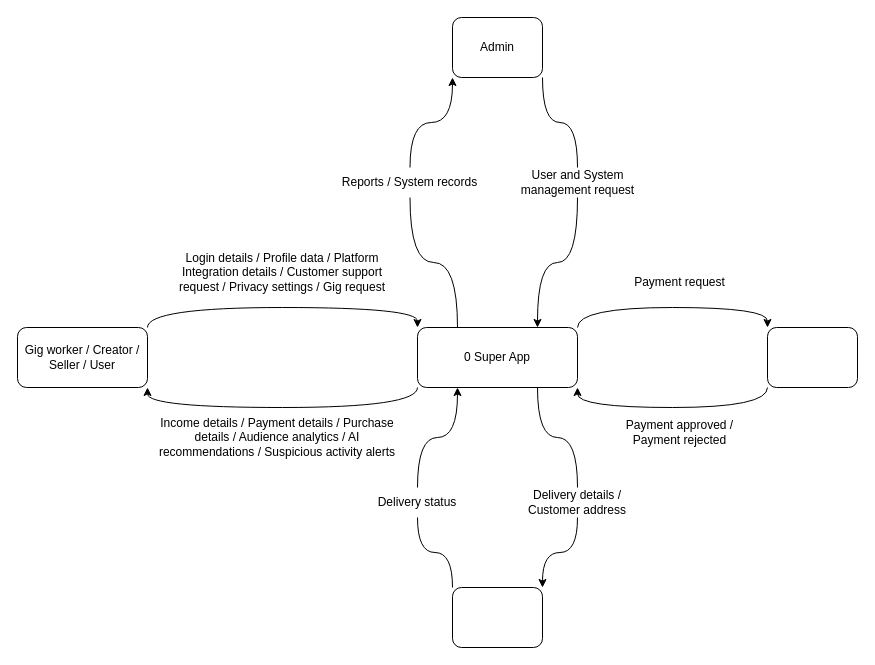
Image size: 875x665. Some labels were removed from this diagram. Here are the shapes that lost their labels. From the top down, the centre of each, then its label:
(812,357): Payment Gateway
(497,617): Delivery system
